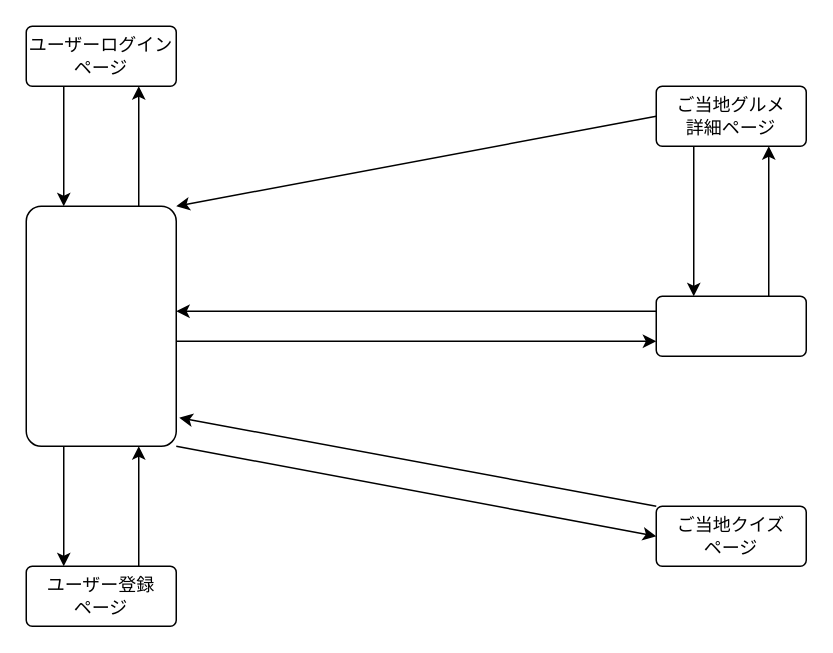
Image size: 833x653. Some labels were removed from this diagram. Here are the shapes that lost their labels. From the top down, the centre of each, then its label:
At point 100,325: "Topページ".
At point 730,325: "ご当地グルメ 一覧ページ".
